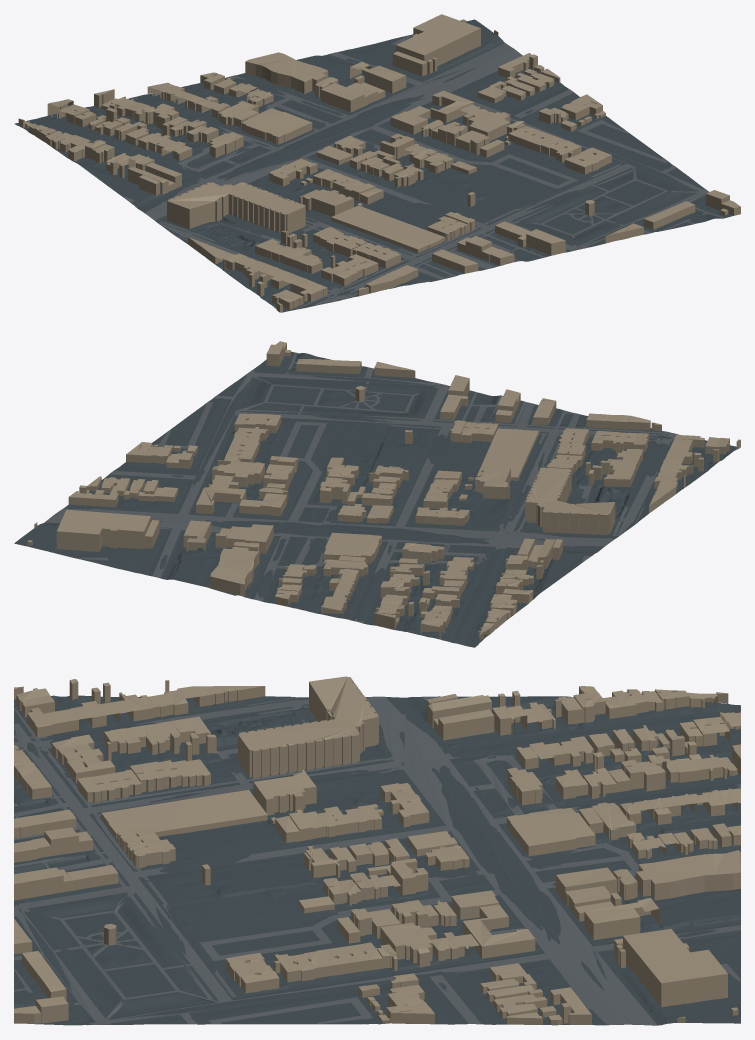
Rendered from epsg26910-1436-10868.lod0.glb.
3 views of the same model, one above another, from view 1: azimuth 30°, elevation 25°; view 2: azimuth 150°, elevation 25°; view 3: azimuth 270°, elevation 25° (orthographic). The views are drawn at different scales.
Visible parts, largest first — view 1: epsg26910-1436-10868-lod0; view 2: epsg26910-1436-10868-lod0; view 3: epsg26910-1436-10868-lod0.
Boxes of the visible parts, bbox=[...] form: epsg26910-1436-10868-lod0: bbox=[14, 14, 740, 312]; epsg26910-1436-10868-lod0: bbox=[14, 341, 740, 647]; epsg26910-1436-10868-lod0: bbox=[14, 676, 740, 1025].
Bounding box in the file's own units: 384 × 28.29 × 384.
